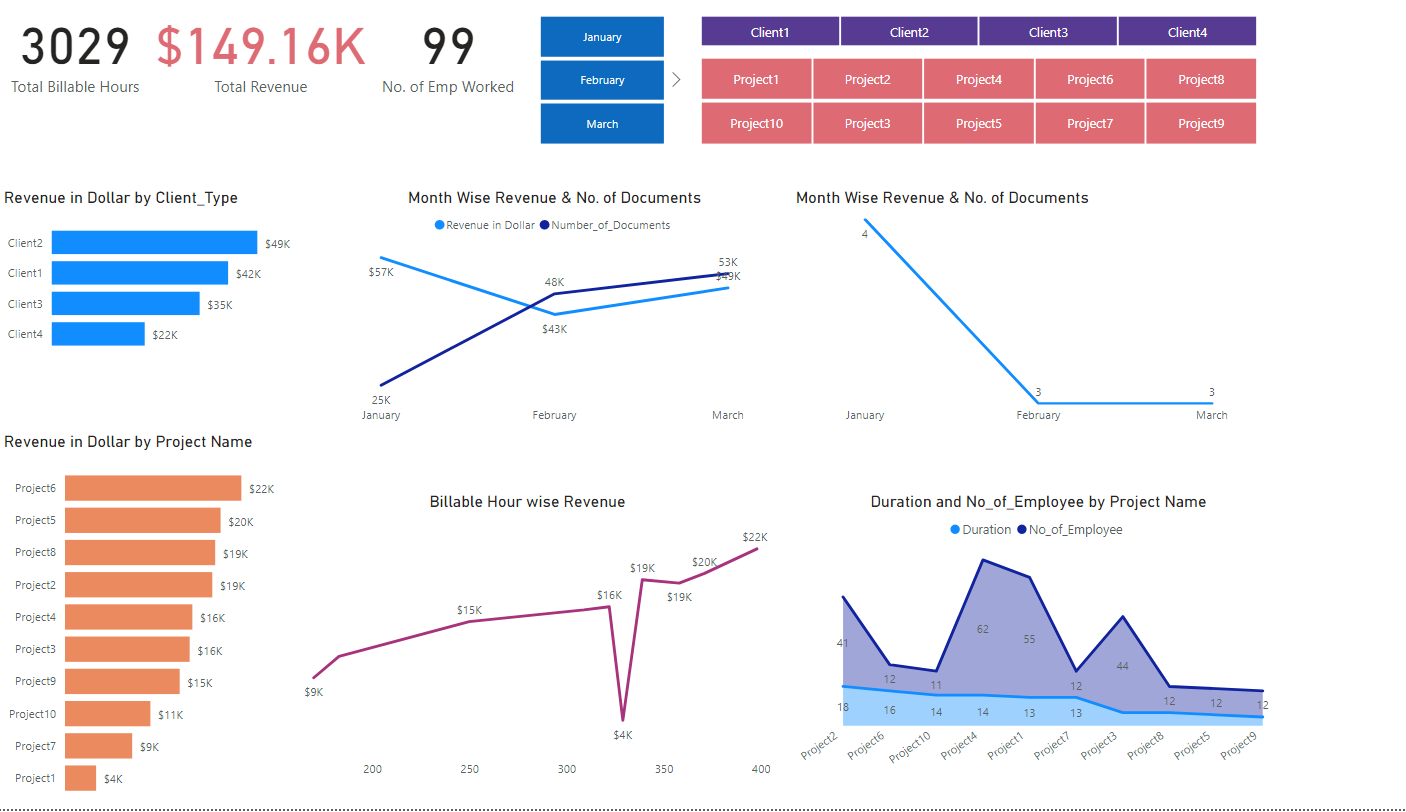

Layout of this report page (visuals, bound fields, positions):
{"tool":"powerbi","page":{"name":"Page 1","canvas":[1500,850],"ordinal":0},"visuals":[{"type":"card","fields":{"Values":["Project_Wise_Revenue.Billable Hours (Hour)"]},"box":[0,0,162.5,108],"z":0},{"type":"card","fields":{"Values":["Project_Wise_Revenue.Revenue in Dollar"]},"box":[150.9,0,249.4,108],"z":1000},{"type":"card","fields":{"Values":["Reviewer_Details.Emp Code"]},"box":[387.8,0,167.7,108],"z":2000},{"type":"barChart","fields":{"Category":["Project Details.Client_Type"],"Y":["Project_Wise_Revenue.Revenue in Dollar"]},"box":[1,199.1,322.8,184.5],"z":3000},{"type":"slicer","fields":{"Values":["Project Details.Client_Type"]},"box":[711.7,12.6,630.9,44],"z":4000},{"type":"slicer","fields":{"Values":["Project Details.Project Name"]},"box":[711.7,56.6,630.9,102.7],"z":5000},{"type":"barChart","fields":{"Y":["Project_Wise_Revenue.Revenue in Dollar"],"Category":["Project Details.Project Name"]},"box":[1,454.9,322.8,395.1],"z":6000},{"type":"lineChart","title":"Month Wise Revenue & No. of Documents","fields":{"Y":["Project_Wise_Revenue.Revenue in Dollar","Project Details.Number_of_Documents"],"Category":["Project Details.Project_Start_Date (mm/dd/yyyy).Variation.Date Hierarchy.Month"]},"box":[323.9,199.1,518.8,255.7],"z":7000},{"type":"lineChart","title":"Billable Hour wise Revenue","fields":{"Category":["Project_Wise_Revenue.Billable Hours (Hour)"],"Y":["Project_Wise_Revenue.Revenue in Dollar"]},"box":[295.6,517.8,518.8,308.1],"z":8000},{"type":"slicer","fields":{"Values":["Project Details.Project_Start_Date (mm/dd/yyyy).Variation.Date Hierarchy.Month"]},"box":[542.9,12.6,179.2,146.7],"z":9000},{"type":"stackedAreaChart","fields":{"Category":["Project Details.Project Name"],"Y":["Project Details.Duration","Project Details.No_of_Employee"]},"box":[831.1,517.8,518.8,308.1],"z":10000},{"type":"lineChart","title":"Month Wise Revenue & No. of Documents","fields":{"Category":["Project Details.Project_Start_Date (mm/dd/yyyy).Variation.Date Hierarchy.Month"],"Y":["Project Details.No_of_Project"]},"box":[831.1,199.1,518.8,255.7],"z":10001}]}

Visuals, with their boxes in screenshot pixels (x1, y1, x2, y2), scaled from the page's 1500x850 canvas onto the 1406x812 screenshot:
card - Project_Wise_Revenue.Billable Hours (Hour): 0 0 152 103
card - Project_Wise_Revenue.Revenue in Dollar: 141 0 375 103
card - Reviewer_Details.Emp Code: 363 0 521 103
barChart - Project Details.Client_Type x Project_Wise_Revenue.Revenue in Dollar: 1 190 304 366
slicer - Project Details.Client_Type: 667 12 1258 54
slicer - Project Details.Project Name: 667 54 1258 152
barChart - Project_Wise_Revenue.Revenue in Dollar x Project Details.Project Name: 1 435 304 811
"Month Wise Revenue & No. of Documents" lineChart: 304 190 790 434
"Billable Hour wise Revenue" lineChart: 277 495 763 789
slicer - Project Details.Project_Start_Date (mm/dd/yyyy).Variation.Date Hierarchy.Month: 509 12 677 152
stackedAreaChart - Project Details.Project Name x Project Details.Duration: 779 495 1265 789
"Month Wise Revenue & No. of Documents" lineChart: 779 190 1265 434
